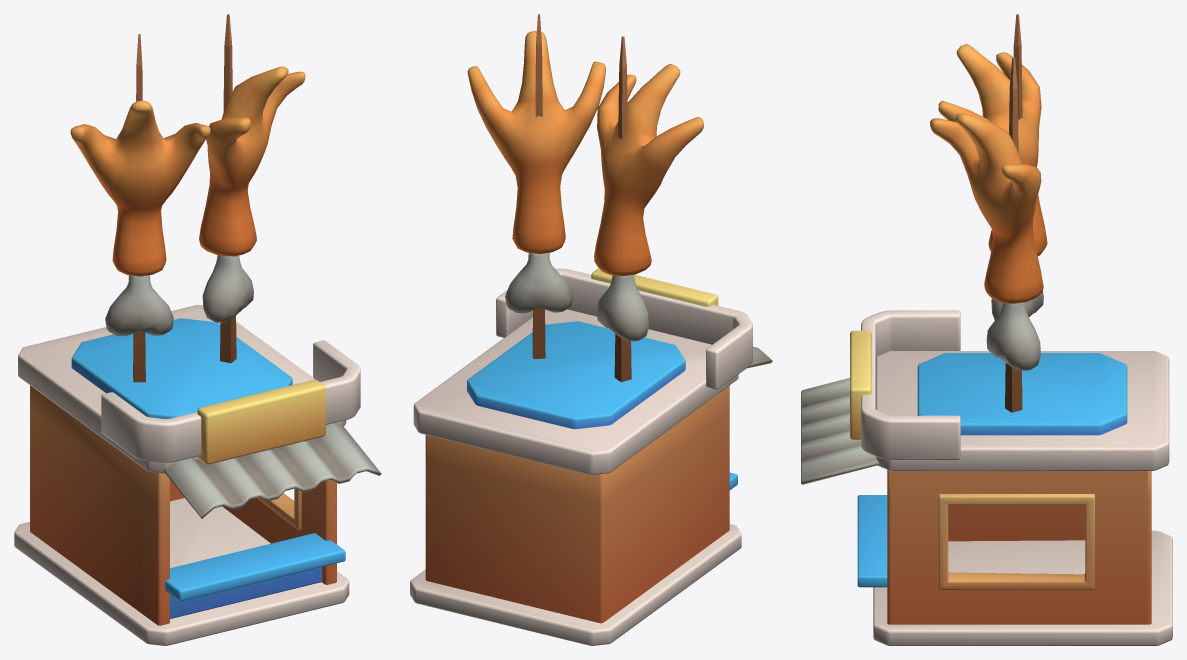
Rendered from lpb_store_adidas.fbx.
3 views of the same model, side by side, from view 1: azimuth 30°, elevation 25°; view 2: azimuth 150°, elevation 25°; view 3: azimuth 270°, elevation 25° (orthographic). The views are drawn at different scales.
Visible parts, largest first — view 1: Store.017; view 2: Store.017; view 3: Store.017.
Boxes of the visible parts, <box> form: Store.017: <box>14,14,381,645</box>; Store.017: <box>410,14,772,645</box>; Store.017: <box>801,14,1172,645</box>.
Bounding box in the file's own units: 372 × 830 × 500.
